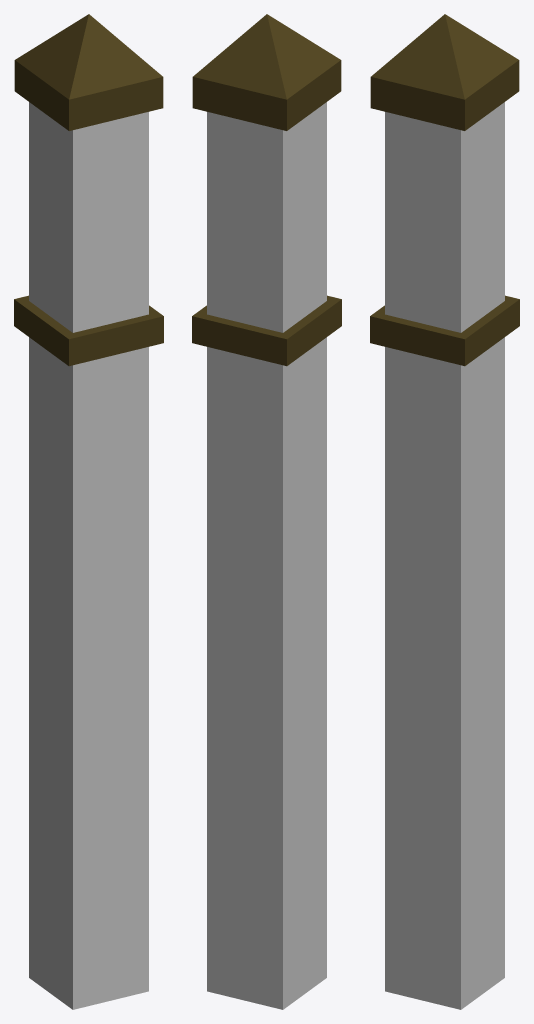
File: Wall1UV.fbx
3 renders of one model, left to right at view 1: azimuth 30°, elevation 25°; view 2: azimuth 150°, elevation 25°; view 3: azimuth 330°, elevation 25°, orthographic.
Parts seen in each view (by area): view 1: Cube.004; view 2: Cube.004; view 3: Cube.004.
Part boxes in pixels (<box>): Cube.004: <box>14,14,163,1009</box>; Cube.004: <box>192,14,341,1009</box>; Cube.004: <box>370,14,519,1009</box>.
Bounding box in the file's own units: 50 × 488 × 50.
